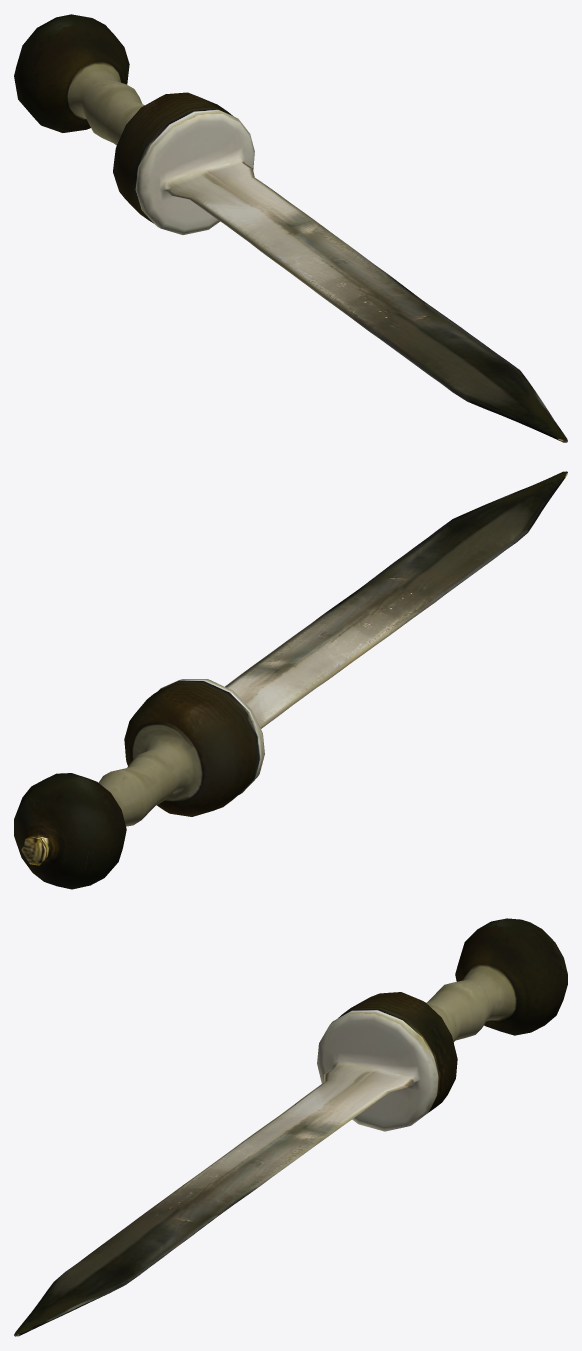
Rendered from sword1.glb.
3 renders of one model, top to bottom at view 1: azimuth 30°, elevation 25°; view 2: azimuth 150°, elevation 25°; view 3: azimuth 330°, elevation 25°, orthographic.
Parts seen in each view (by area): view 1: tripo_node_a8d80c73.001; view 2: tripo_node_a8d80c73.001; view 3: tripo_node_a8d80c73.001.
Boxes of the visible parts, x1,y1,x2,y2 form: tripo_node_a8d80c73.001: [14, 14, 567, 442]; tripo_node_a8d80c73.001: [14, 471, 567, 889]; tripo_node_a8d80c73.001: [14, 918, 567, 1336].
Bounding box in the file's own units: 0.1139 × 0.1106 × 0.884.
Materials: 1 (1 with a texture image).
